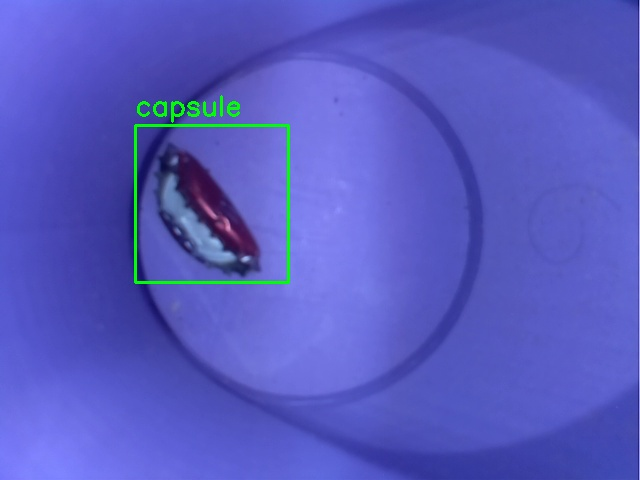capsule: (135, 125, 288, 282)
